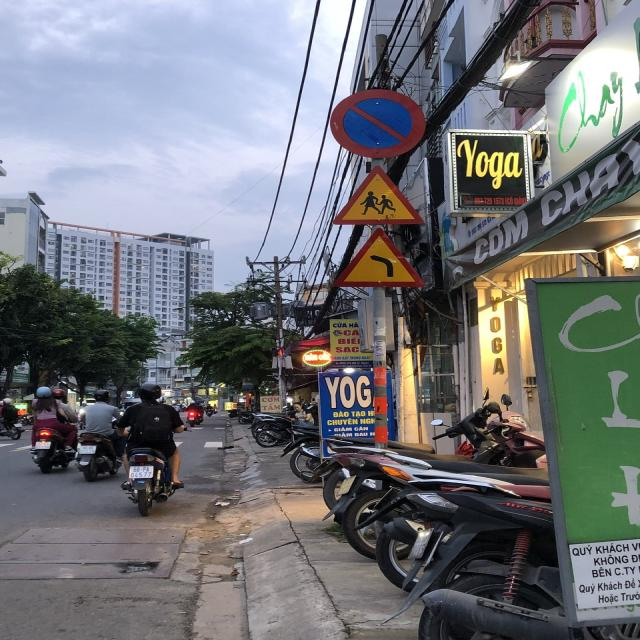Bien bao cam do xe: (317, 79, 433, 160)
Bien bao cho ngoat nguy hiem: (325, 222, 434, 296)
Bien bao tre em: (325, 158, 434, 226)
